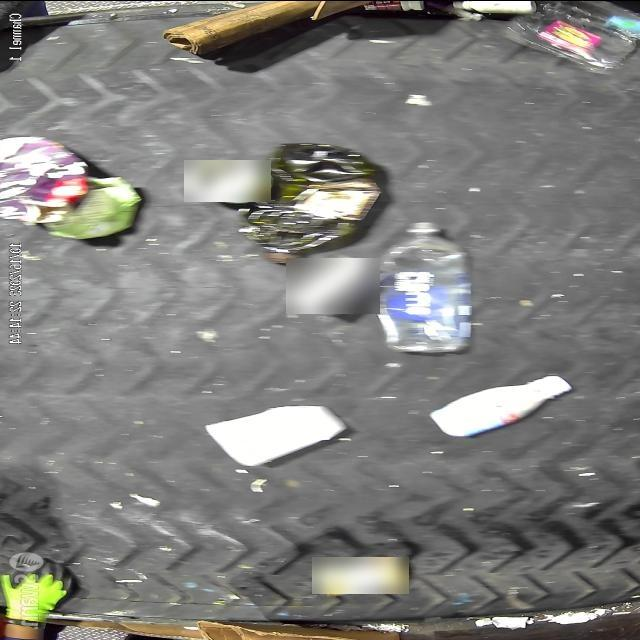plastic_bottle: (377, 222, 476, 354)
